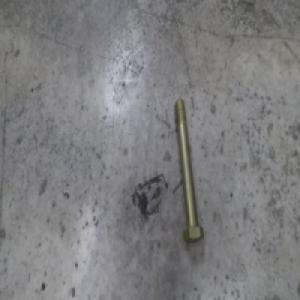Bolt: (168, 96, 198, 241)
